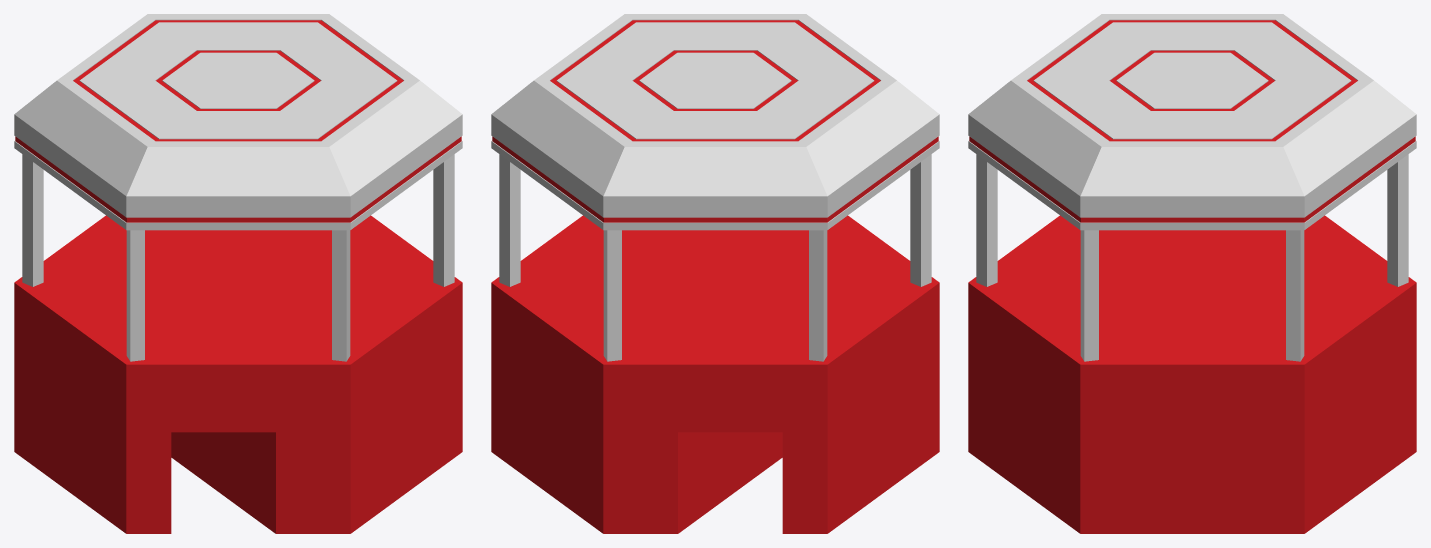
Rendered from sgrada.fbx.
The picture shows the model from 3 angles, left to right: view 1: azimuth 30°, elevation 25°; view 2: azimuth 150°, elevation 25°; view 3: azimuth 270°, elevation 25°; orthographic projection.
Parts seen in each view (by area): view 1: Cylinder, Cylinder.003, Cube; view 2: Cylinder, Cylinder.003, Cube; view 3: Cylinder, Cylinder.003, Cube.
Boxes of the visible parts, left/top/right/bottom form: Cylinder: left=14, top=215, right=462, bottom=533; Cylinder.003: left=14, top=14, right=462, bottom=230; Cube: left=22, top=154, right=454, bottom=361; Cylinder: left=491, top=215, right=939, bottom=533; Cylinder.003: left=491, top=14, right=939, bottom=230; Cube: left=499, top=154, right=931, bottom=361; Cylinder: left=968, top=215, right=1416, bottom=533; Cylinder.003: left=968, top=14, right=1416, bottom=230; Cube: left=976, top=154, right=1408, bottom=361.
Bounding box in the file's own units: 2078 × 2194 × 2400.
